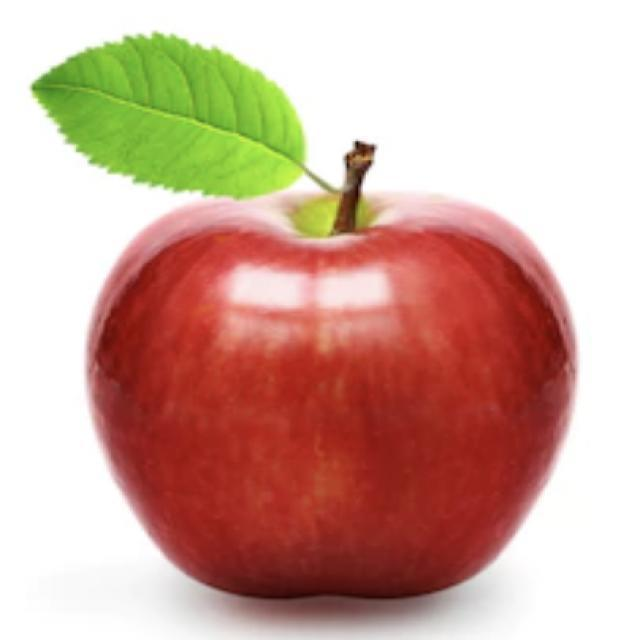Fresh Apple: (87, 172, 580, 605)
